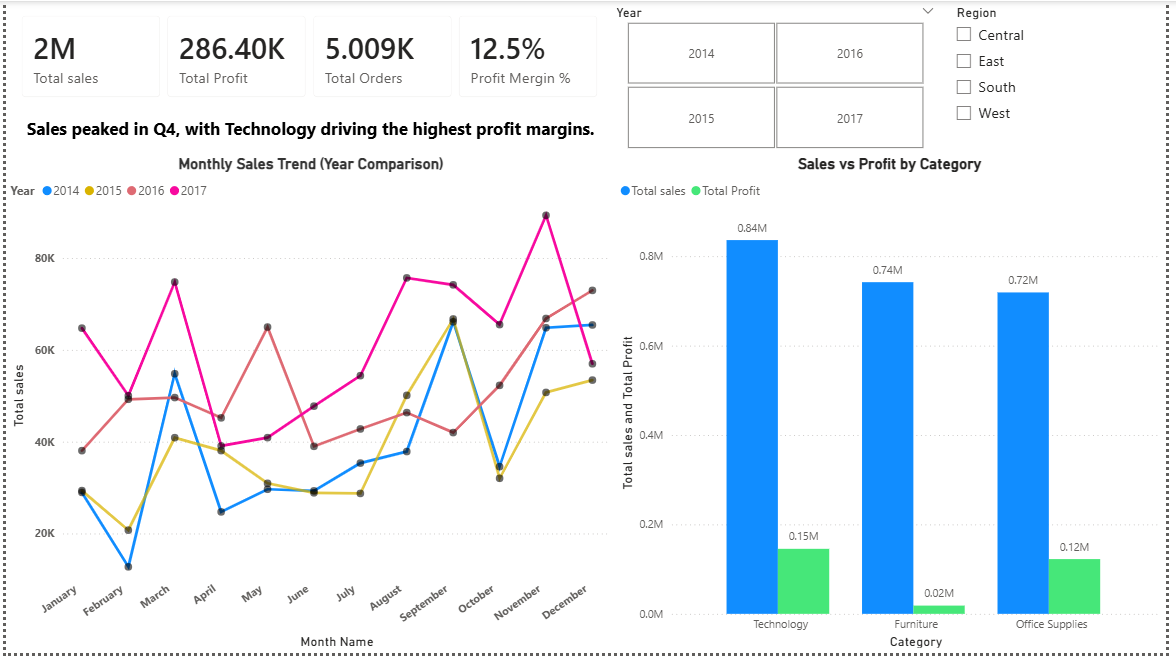

What the dashboard file says about the page in this screenshot:
{"tool":"powerbi","page":{"name":"Executive Overview","canvas":[1280,720],"ordinal":0},"visuals":[{"type":"cardVisual","fields":{"Data":["Superstore.Total sales","Superstore.Total Profit","Superstore.Total Orders","Superstore.Profit Mergin %"]},"box":[0,0,672.8,124.7],"z":0},{"type":"lineChart","title":"Monthly Sales Trend (Year Comparison)","fields":{"Y":["Superstore.Total sales"],"Category":["Superstore.Month Name"],"Series":["Superstore.Year"]},"box":[0,170.1,672.8,549.9],"z":1000},{"type":"clusteredColumnChart","title":"Sales vs Profit by Category","fields":{"Category":["Superstore.Category"],"Y":["Superstore.Total sales","Superstore.Total Profit"]},"box":[672.8,170.1,606.6,549.9],"z":2000},{"type":"slicer","fields":{"Values":["Superstore.Region"]},"box":[1037.5,0,241.9,170.1],"z":3000},{"type":"slicer","fields":{"Values":["Superstore.Year"]},"box":[661.4,0,376.1,170.1],"z":4000},{"type":"textbox","box":[0,124.7,672.8,45.4],"z":5000}]}

Visuals, with their boxes in screenshot pixels (x1, y1, x2, y2), scaled from the page's 1280x720 canvas onto the 1176x658 screenshot:
cardVisual - Superstore.Total sales x Superstore.Total Profit: box=[0, 0, 618, 114]
"Monthly Sales Trend (Year Comparison)" lineChart: box=[0, 155, 618, 657]
"Sales vs Profit by Category" clusteredColumnChart: box=[618, 155, 1175, 657]
slicer - Superstore.Region: box=[953, 0, 1175, 155]
slicer - Superstore.Year: box=[608, 0, 953, 155]
textbox: box=[0, 114, 618, 155]
